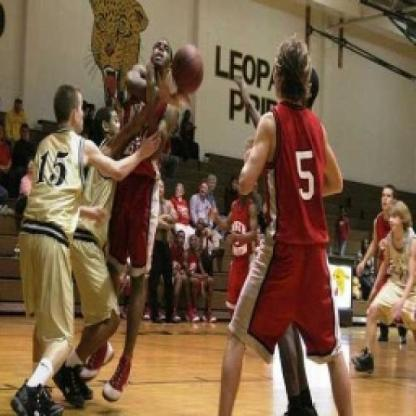basketball: (166, 38, 208, 98)
